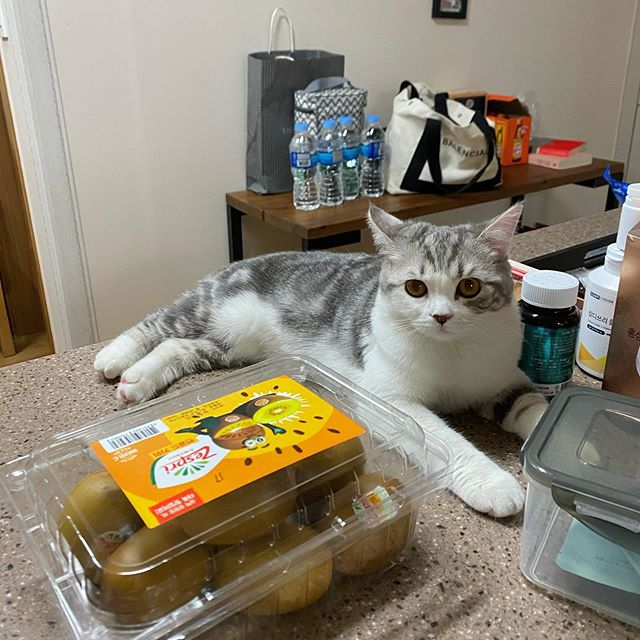cat: (359, 194, 527, 345)
